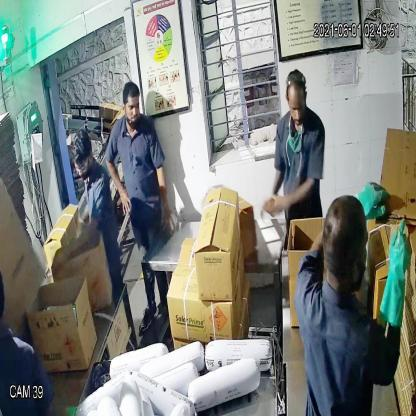goggles: (74, 157, 92, 178)
no_goggles: (285, 100, 308, 120)
